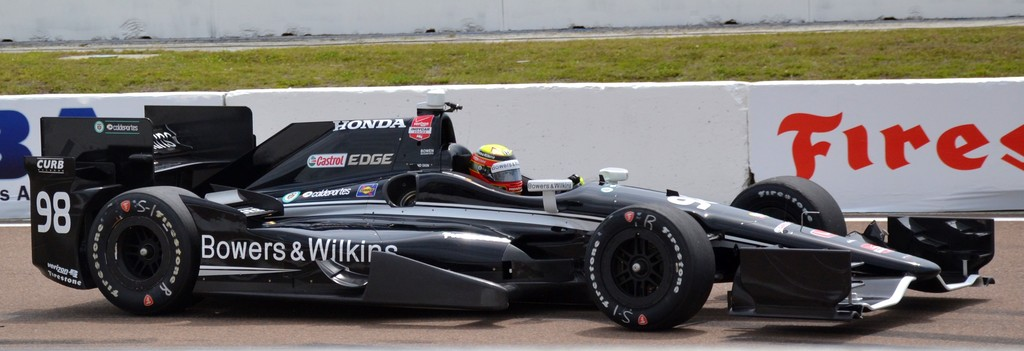Car: (40, 96, 952, 324)
